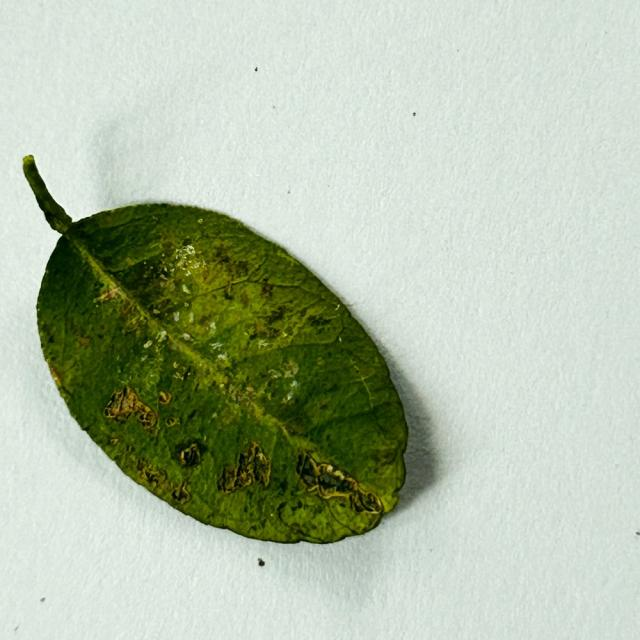Bacterial_Blight: (295, 450, 380, 513), (217, 442, 270, 494), (170, 439, 209, 472), (173, 439, 203, 468), (295, 452, 315, 482), (171, 483, 192, 505), (375, 448, 399, 467), (265, 305, 287, 324), (223, 283, 237, 300), (289, 522, 306, 535), (158, 391, 172, 405), (277, 502, 288, 514), (103, 407, 114, 418), (166, 417, 178, 427), (182, 238, 193, 248), (318, 401, 330, 410), (47, 334, 55, 344), (354, 366, 361, 374)
Lemon: (22, 158, 411, 547)
